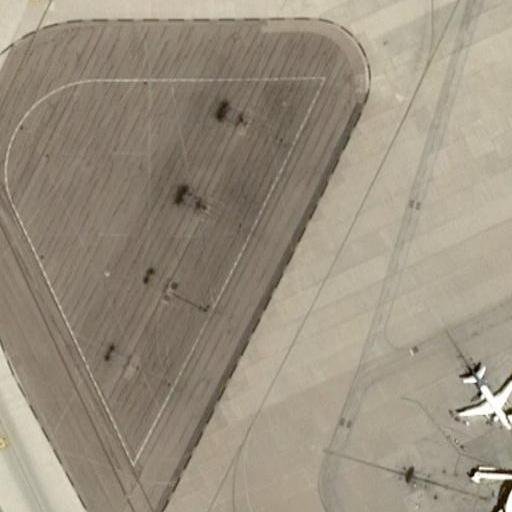Aircraft: (453, 360, 512, 434)
